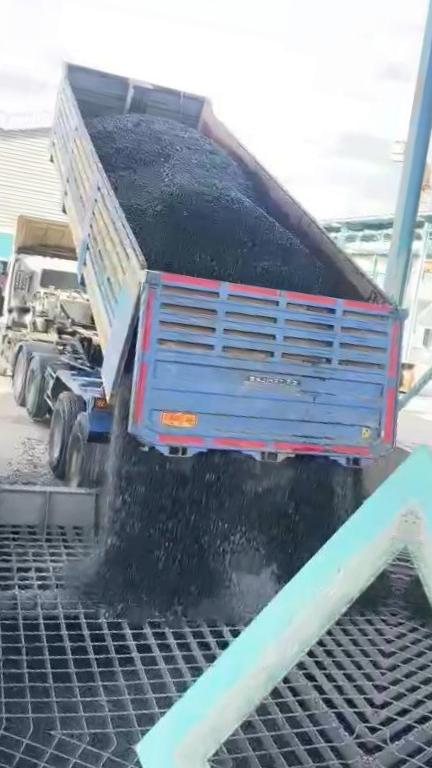gravel: (71, 374, 363, 623), (88, 115, 333, 293)
